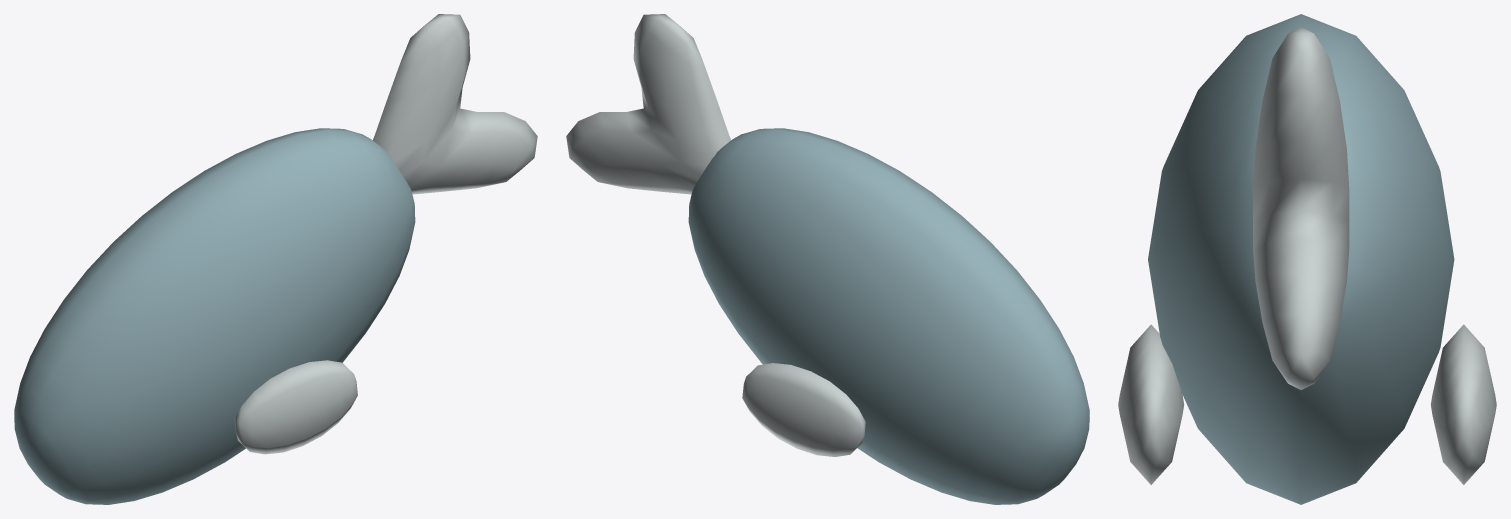
File: fish.fbx
The picture shows the model from 3 angles, left to right: view 1: azimuth 30°, elevation 25°; view 2: azimuth 150°, elevation 25°; view 3: azimuth 270°, elevation 25°; orthographic projection. The views are drawn at different scales.
Visible parts, largest first — view 1: polySurface130; view 2: polySurface130; view 3: polySurface130.
Boxes of the visible parts, x1,y1,x2,y2 form: polySurface130: [14, 14, 537, 504]; polySurface130: [566, 14, 1089, 504]; polySurface130: [1118, 14, 1496, 504].
Bounding box in the file's own units: 2.69 × 2.01 × 1.
